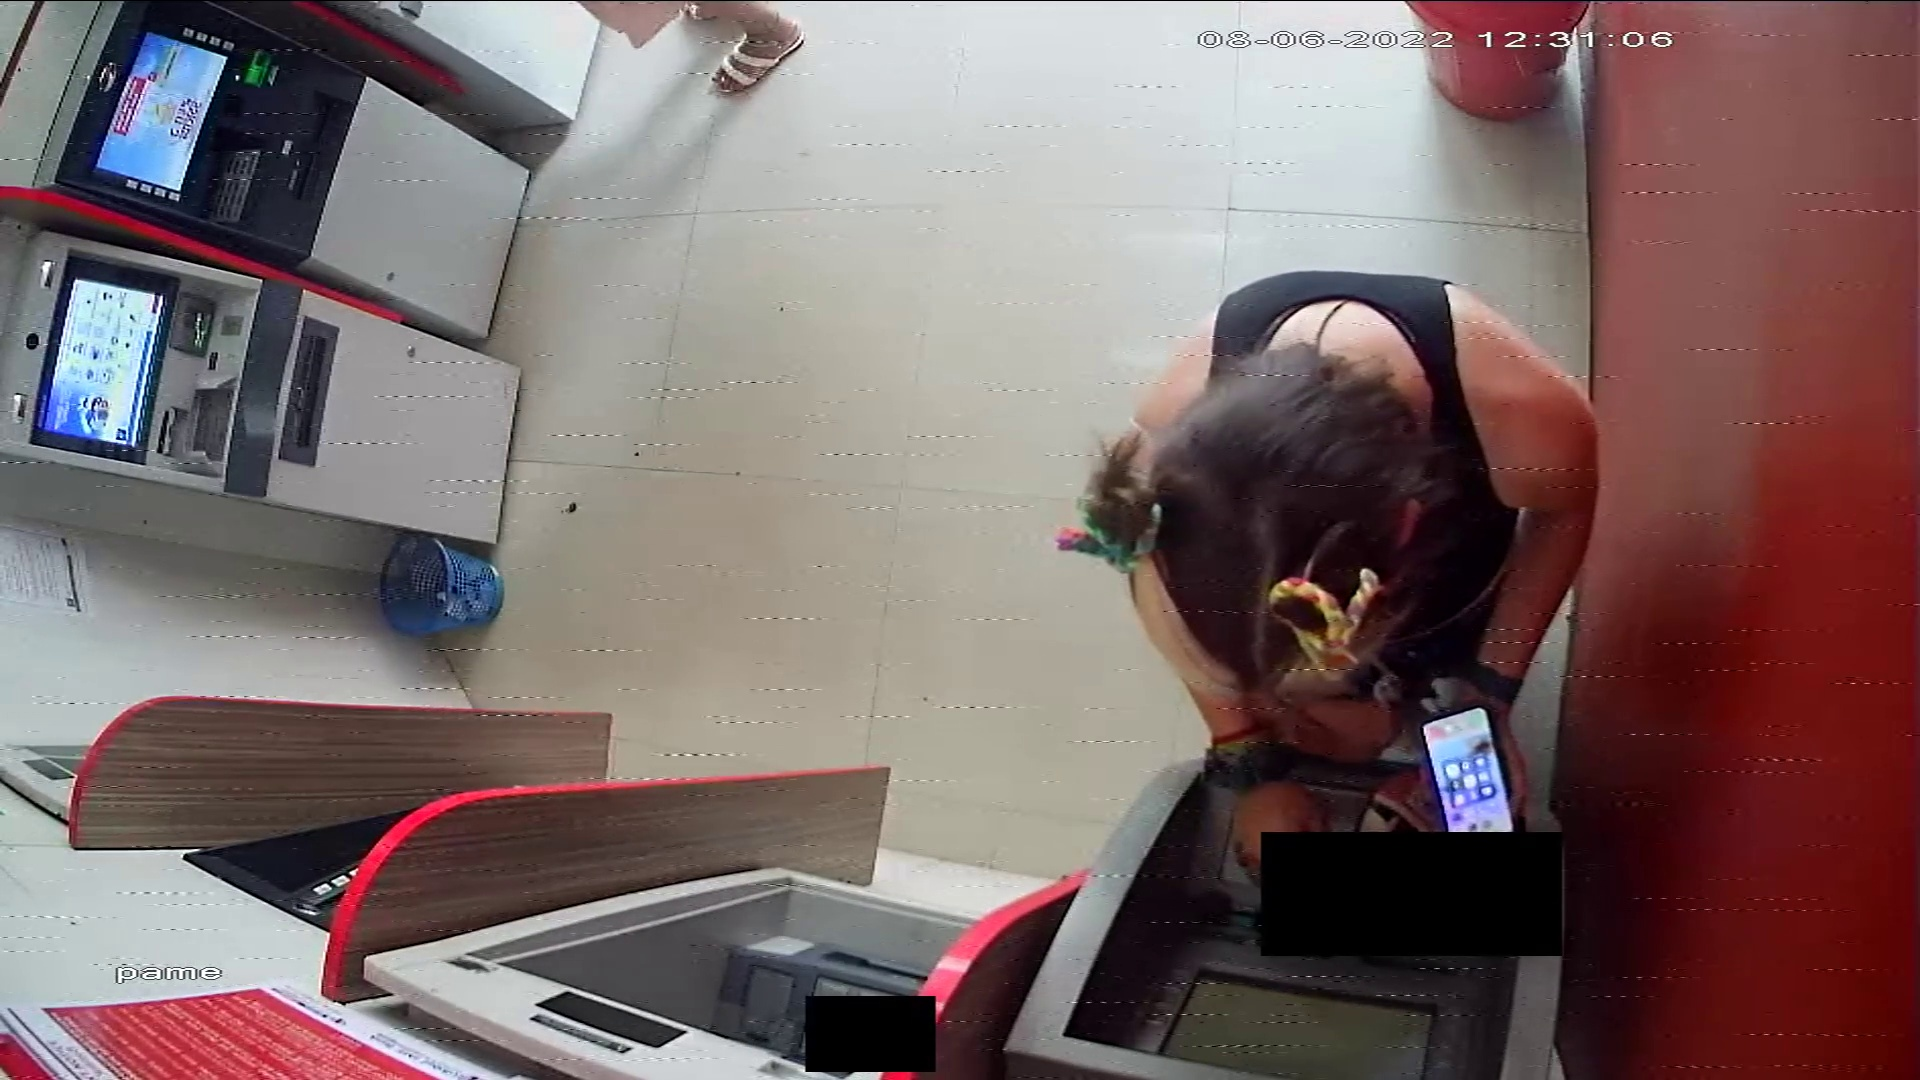person: (1106, 271, 1600, 881)
phone: (1418, 707, 1509, 831)
